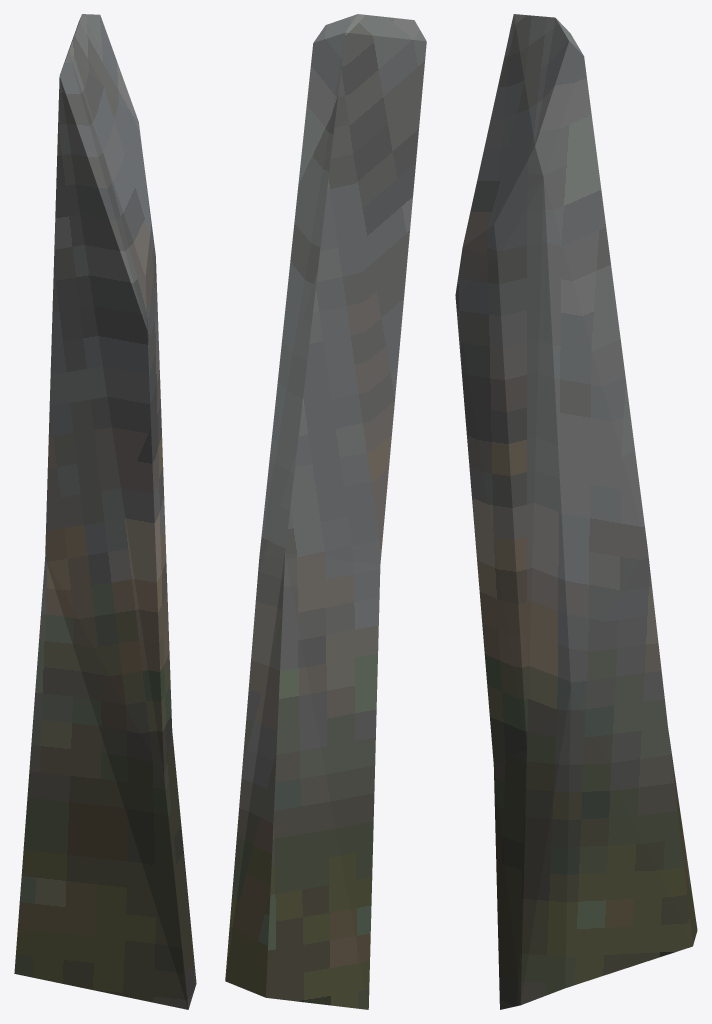
The model's file is peg_leg_03.glb.
3 views of the same model, side by side, from view 1: azimuth 30°, elevation 25°; view 2: azimuth 150°, elevation 25°; view 3: azimuth 270°, elevation 25° (orthographic). The views are drawn at different scales.
Parts seen in each view (by area): view 1: peg_leg_03; view 2: peg_leg_03; view 3: peg_leg_03.
Boxes of the visible parts, <box> form: peg_leg_03: <box>14,14,196,1009</box>; peg_leg_03: <box>225,14,426,1009</box>; peg_leg_03: <box>455,14,697,1009</box>.
Size of the model in its own units: 0.4938 by 3.26 by 0.7474.
1 material, 1 textured.
